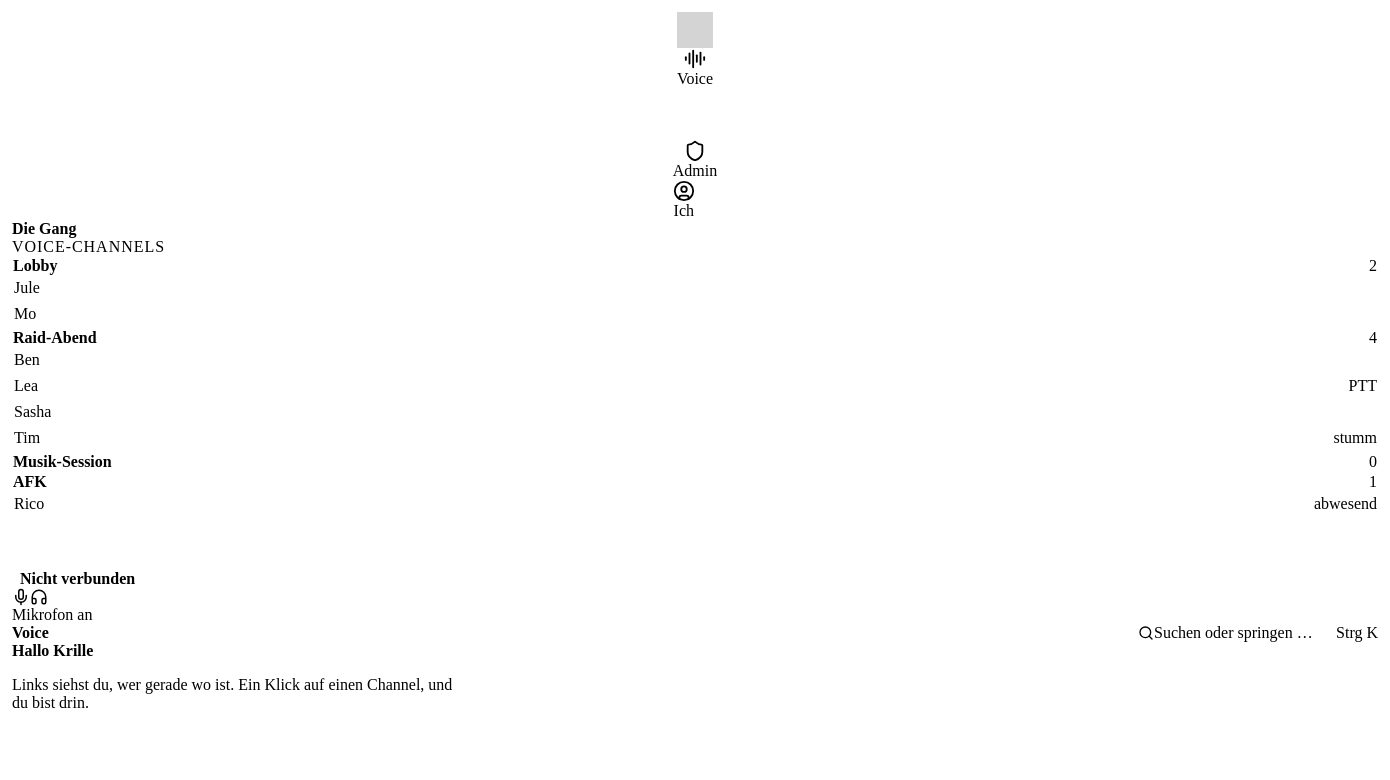
Voice module: channel tree › joins a channel with one click and shows its people as tiles
This screenshot has width=1390, height=780.
Expected: the heading "Hallo Krille" is shown, x1=12 y1=642 x2=93 y2=659
Click the button "Raid-Abend 4".
click(55, 338)  # box x1=13 y1=329 x2=1377 y2=347
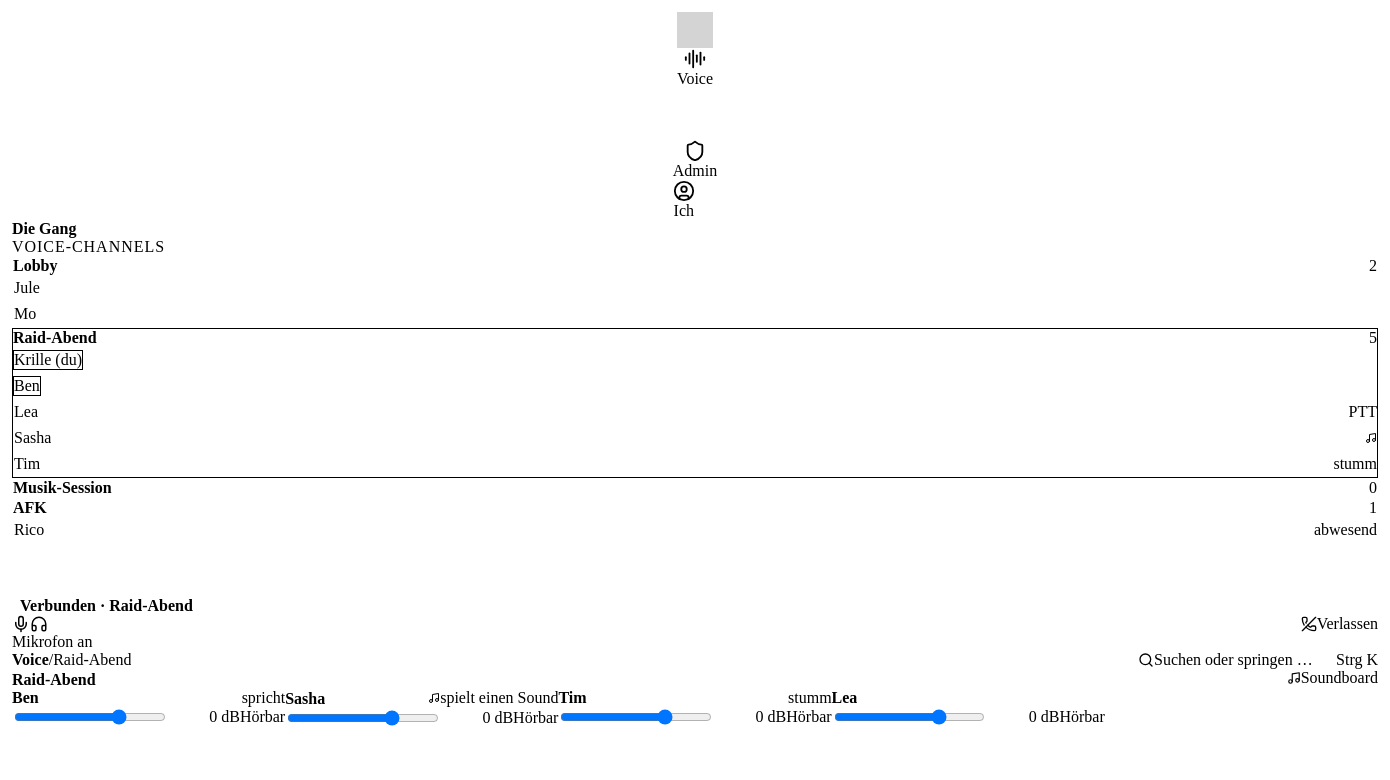
Expected: the heading "Raid-Abend" is shown, x1=12 y1=671 x2=96 y2=689
Expected: the message reads "Verbunden · Raid-Abend", x1=20 y1=597 x2=193 y2=615
Expected: the text "stumm" in the row of "spielt einen Sound" is shown, x1=788 y1=689 x2=832 y2=706
